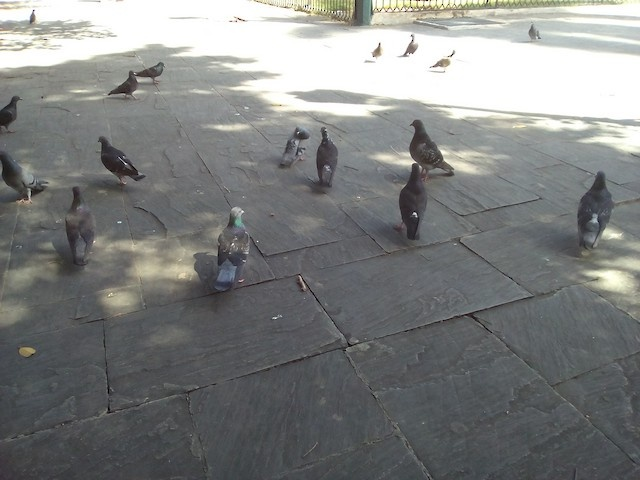Pigeon: (574, 167, 617, 253), (213, 206, 253, 295), (406, 117, 458, 181), (1, 140, 51, 202), (95, 134, 148, 188), (65, 183, 96, 267), (397, 163, 429, 244), (315, 126, 340, 188), (279, 126, 312, 167), (1, 91, 26, 134), (106, 70, 139, 102), (137, 59, 165, 84), (430, 48, 456, 74), (400, 31, 422, 61), (368, 39, 387, 63), (526, 19, 544, 43), (27, 7, 37, 27)
